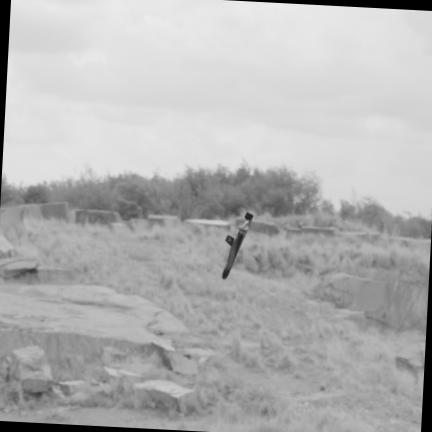Shahed: (222, 212, 253, 279)
